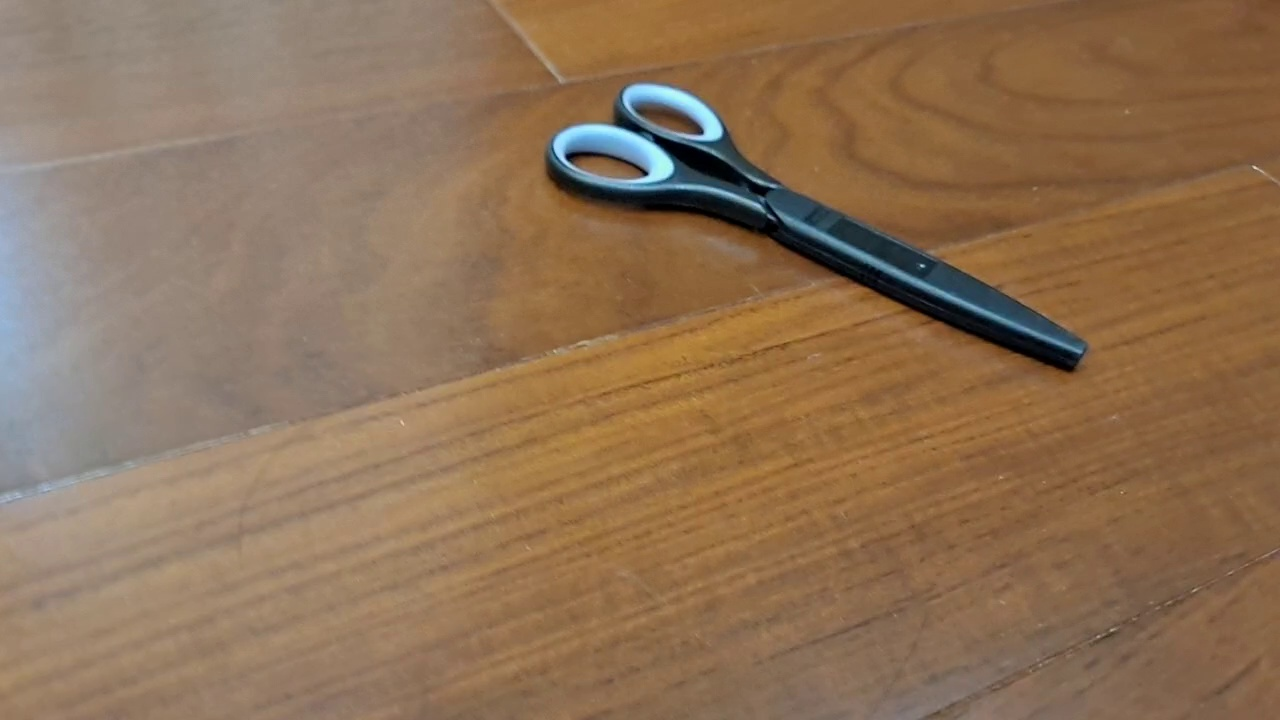scissors: (544, 79, 1091, 375)
